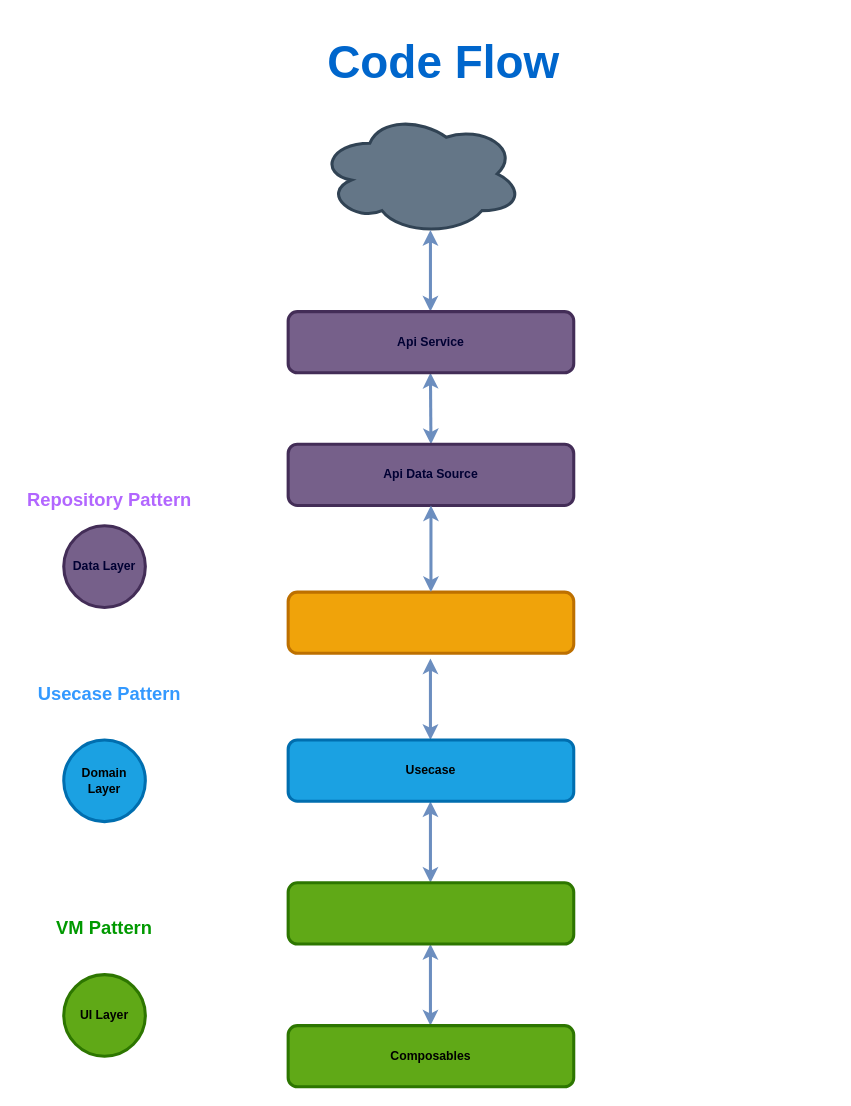
This 851x1106 diagram has some shape labels left out. The shapes that lost their labels are listed below. From the top down, each one's centre as x and y in pixels, then its label:
the point at 420,173: Back End Services
the point at 430,622: Repository
the point at 430,913: ViewModel
